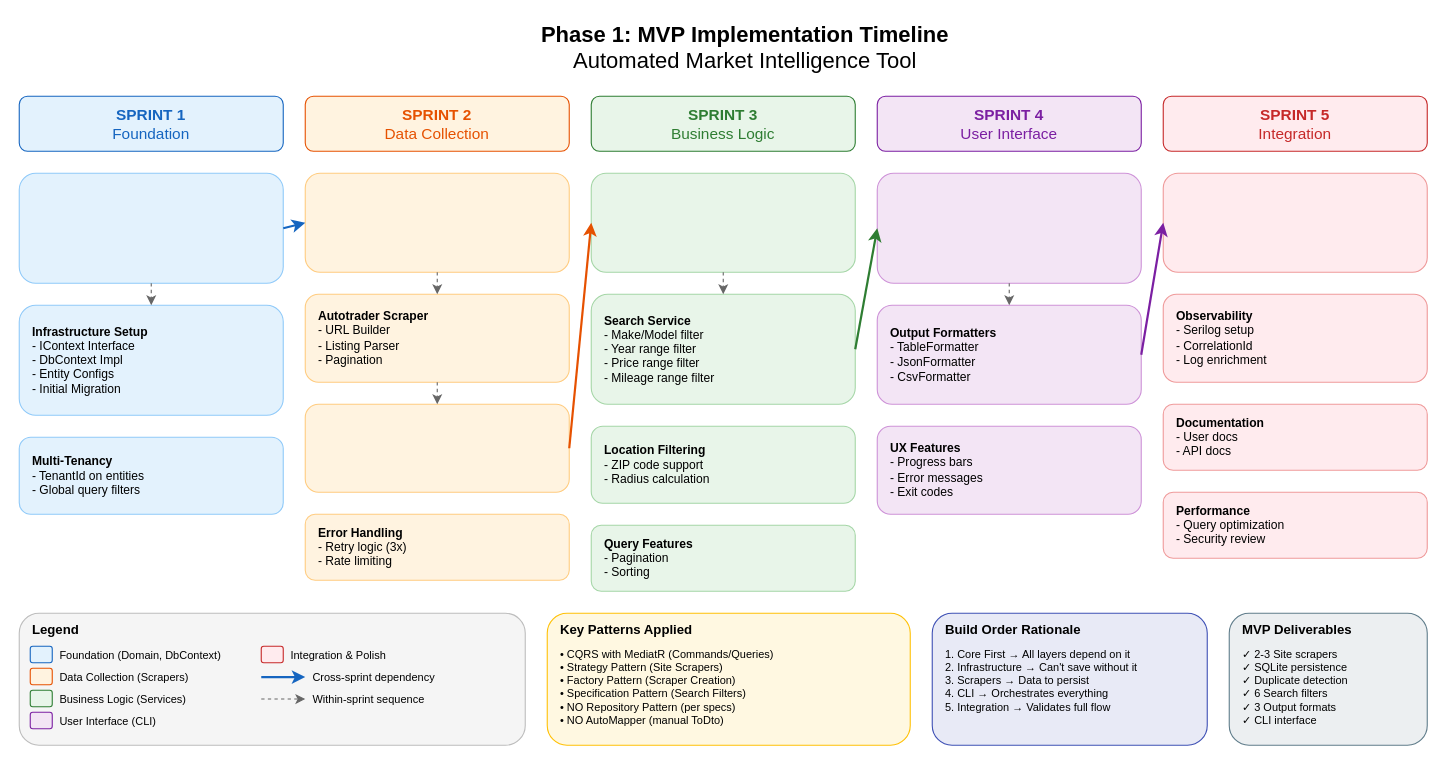
Some shapes in this 1447 by 765 pixel diagram are drawn without their labels. The shapes that lost their labels are listed below. From the top down, each one's box as (x1, y1, x2, y2) in pixels, then its label:
(18, 172, 283, 283): Domain Models - Listing Aggregate - Value Objects - Enums - Domain Events
(304, 172, 569, 272): Scraper Foundation - ISiteScraper interface - BaseScraper class - ScraperFactory
(590, 172, 855, 272): Duplicate Detection - VIN matching - ExternalId matching - New listing flag
(876, 172, 1141, 283): CLI Framework - Root command - SearchCommand - ScrapeCommand - Arg parsing
(1162, 172, 1427, 272): E2E Testing - Scrape→Store flow - Search→Display flow - Dedup flow
(304, 403, 569, 492): Cars.com Scraper - URL Builder - Listing Parser - Pagination
